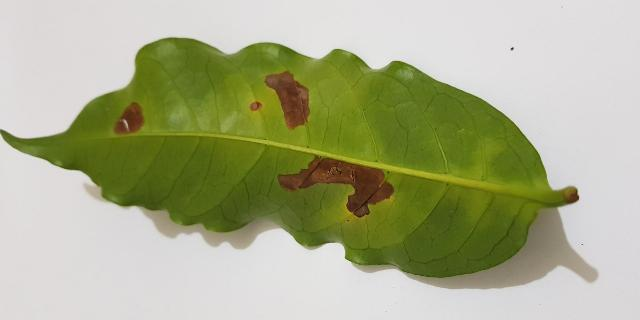cercospora: (278, 157, 394, 217), (265, 72, 310, 129), (114, 103, 144, 134), (250, 101, 262, 111)
